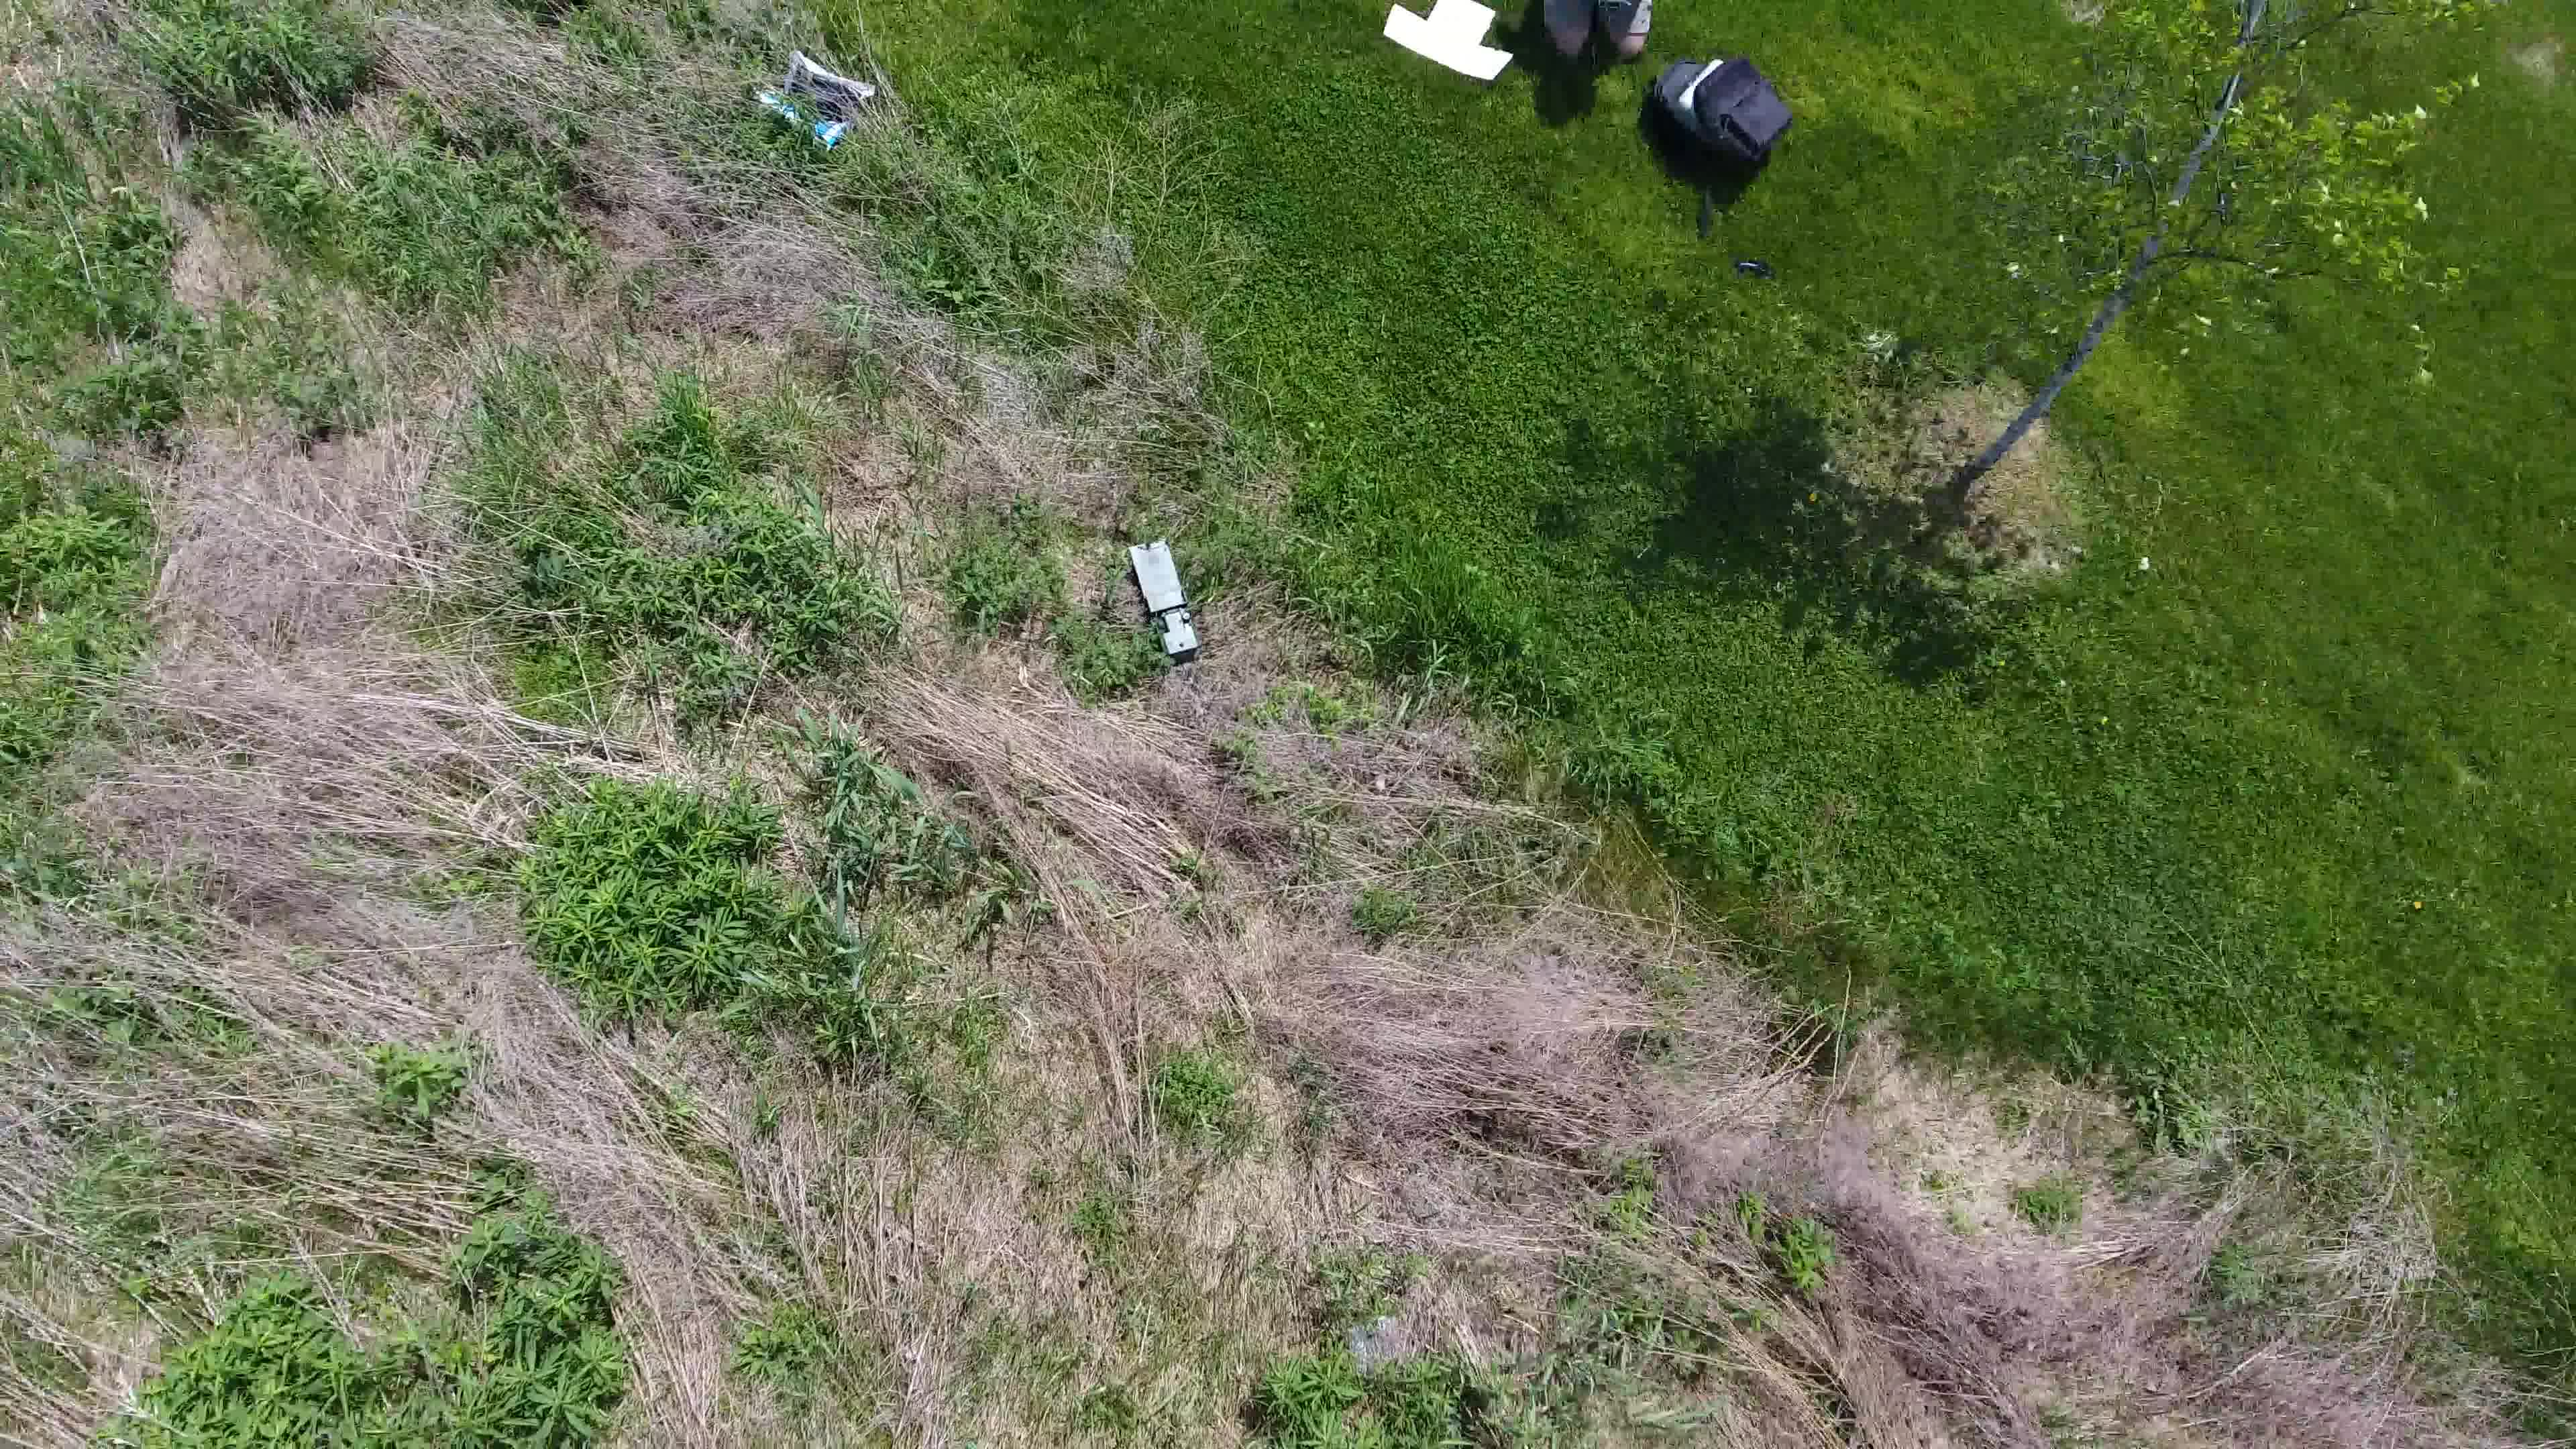transporter9: (1122, 533, 1203, 660)
